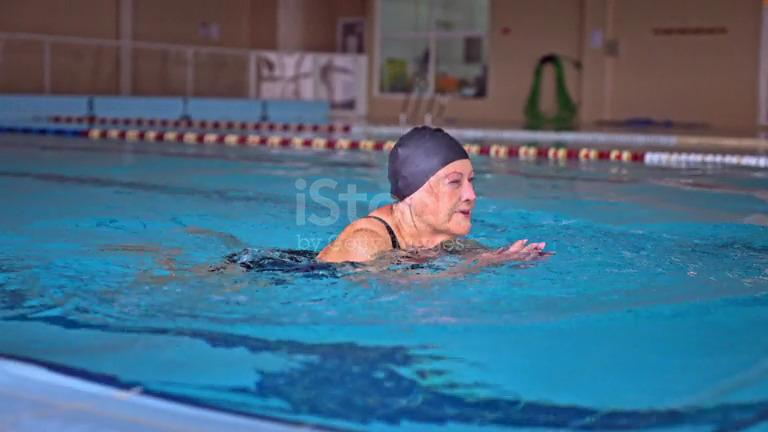Swimming: (105, 73, 574, 299)
